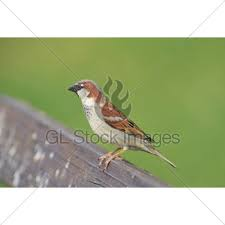hsparrow: (69, 76, 183, 173)
